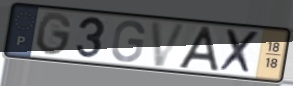3: (74, 15, 109, 61)
A: (176, 26, 221, 74)
G: (35, 11, 74, 58), (109, 18, 147, 64)
V: (149, 20, 190, 69)
X: (218, 27, 262, 76)
